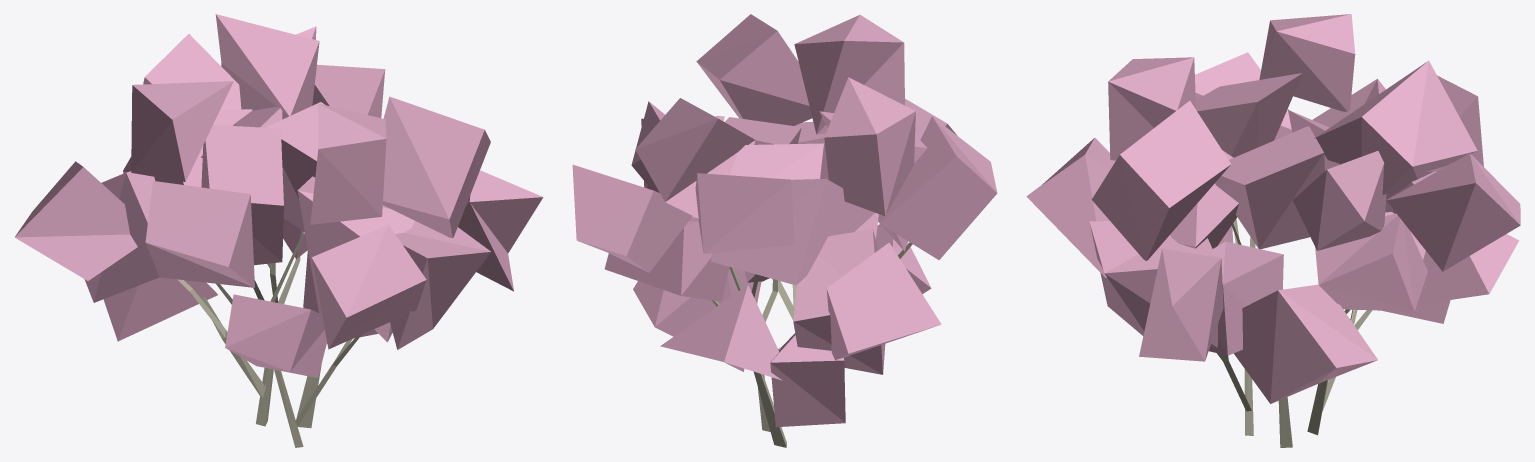
The model's file is RhododendronTsutsuji.glb.
3 renders of one model, left to right at view 1: azimuth 30°, elevation 25°; view 2: azimuth 150°, elevation 25°; view 3: azimuth 270°, elevation 25°, orthographic. The views are drawn at different scales.
Visible parts, largest first — view 1: Crown, Trunk; view 2: Crown, Trunk; view 3: Crown, Trunk.
Boxes of the visible parts, bbox=[...] form: Crown: bbox=[14, 14, 543, 377]; Trunk: bbox=[177, 232, 361, 447]; Crown: bbox=[572, 14, 997, 427]; Trunk: bbox=[711, 242, 912, 447]; Crown: bbox=[1026, 14, 1520, 403]; Trunk: bbox=[1217, 218, 1371, 447].
Size of the model in its own units: 1.02 by 0.8632 by 1.03.
